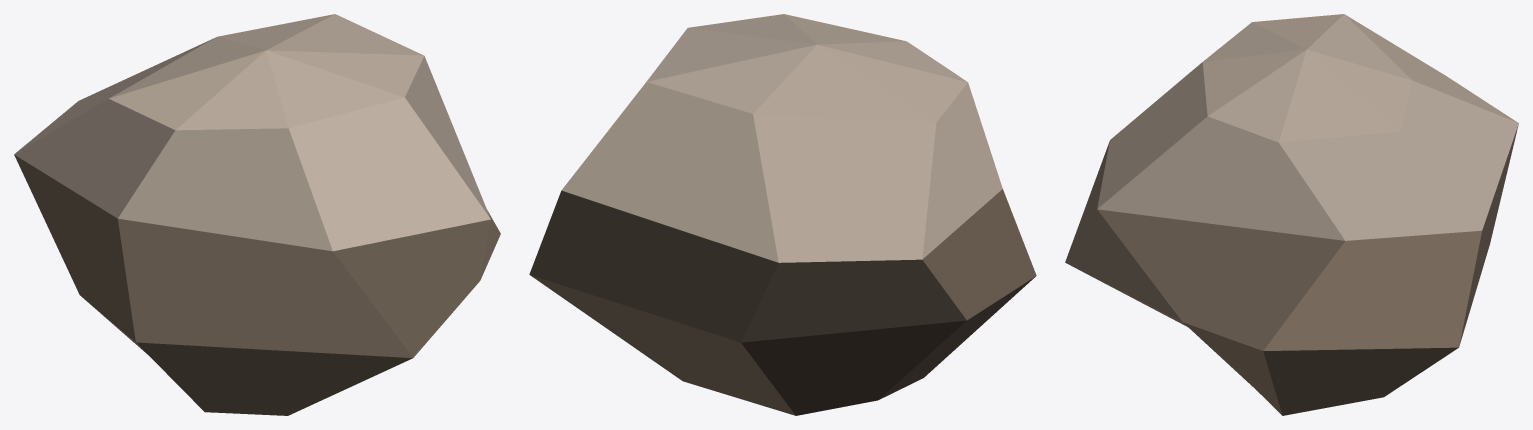
Rendered from RockS.fbx.
3 renders of one model, left to right at view 1: azimuth 30°, elevation 25°; view 2: azimuth 150°, elevation 25°; view 3: azimuth 270°, elevation 25°, orthographic. The views are drawn at different scales.
Visible parts, largest first — view 1: RockS; view 2: RockS; view 3: RockS.
Part boxes in pixels (x1,y1,x2,y2): RockS: [14, 14, 500, 415]; RockS: [529, 14, 1036, 415]; RockS: [1065, 14, 1518, 415].
Size of the model in its own units: 75.15 by 60 by 80.78.
